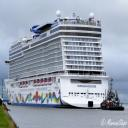cruises: (5, 11, 111, 113)
